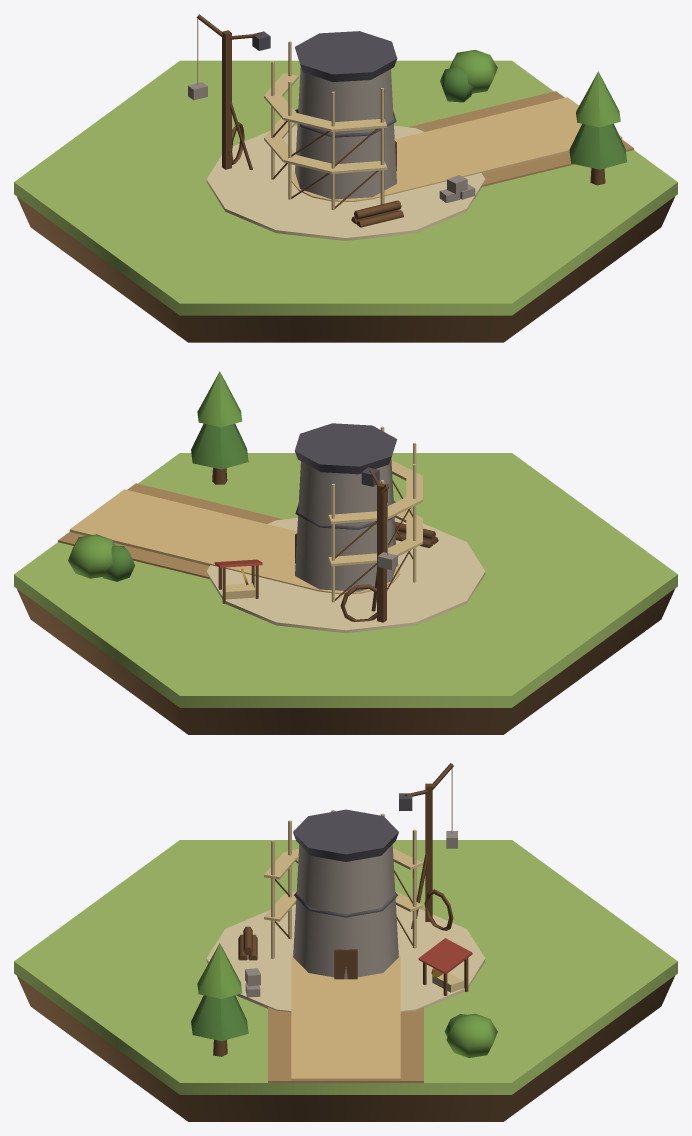
Rendered from tile_base_builder.glb.
3 renders of one model, top to bottom at view 1: azimuth 30°, elevation 25°; view 2: azimuth 150°, elevation 25°; view 3: azimuth 270°, elevation 25°, orthographic.
Visible parts, largest first — view 1: ground, ground_soil, road, courtyard, tower_body, tower_cap, deco_tree_1_crown, scaffold, deco_tree_1_crown_b, crane_mast, deco_bush_0_a, deco_bush_0_b (+3 smaller); view 2: ground, ground_soil, road, courtyard, tower_body, tower_cap, deco_tree_1_crown, deco_bush_0_a, deco_tree_1_crown_b, crane_mast, scaffold, deco_bush_0_b; view 3: ground, ground_soil, road, tower_body, courtyard, tower_cap, deco_tree_1_crown, deco_bush_0_a, deco_tree_1_crown_b, scaffold, workshop_roof, crane_mast (+1 smaller).
Boxes of the visible parts, <box> form: ground: <box>14,60,677,315</box>; ground_soil: <box>17,196,674,342</box>; road: <box>372,91,633,198</box>; courtyard: <box>206,125,485,240</box>; tower_body: <box>295,66,396,199</box>; tower_cap: <box>295,31,397,81</box>; deco_tree_1_crown: <box>569,123,626,169</box>; scaffold: <box>271,41,384,210</box>; deco_tree_1_crown_b: <box>576,71,620,127</box>; crane_mast: <box>222,30,231,169</box>; deco_bush_0_a: <box>449,50,497,93</box>; deco_bush_0_b: <box>440,67,472,102</box>; ground: <box>14,453,677,707</box>; ground_soil: <box>16,588,675,734</box>; road: <box>58,483,319,591</box>; courtyard: <box>206,518,485,633</box>; tower_body: <box>295,459,395,591</box>; tower_cap: <box>294,423,397,474</box>; deco_tree_1_crown: <box>191,423,248,469</box>; deco_bush_0_a: <box>68,534,115,578</box>; deco_tree_1_crown_b: <box>197,371,242,427</box>; crane_mast: <box>377,483,386,622</box>; scaffold: <box>331,426,416,602</box>; deco_bush_0_b: <box>103,545,134,581</box>; ground: <box>14,840,677,1094</box>; ground_soil: <box>16,975,675,1121</box>; road: <box>268,957,423,1082</box>; tower_body: <box>293,844,398,979</box>; courtyard: <box>206,905,485,1012</box>; tower_cap: <box>293,809,398,861</box>; deco_tree_1_crown: <box>191,995,248,1041</box>; deco_bush_0_a: <box>446,1013,497,1057</box>; deco_tree_1_crown_b: <box>197,943,242,998</box>; scaffold: <box>271,810,416,958</box>; workshop_roof: <box>418,938,472,974</box>; crane_mast: <box>425,783,432,921</box>.
Size of the model in its own units: 1.73 by 0.6545 by 2.
